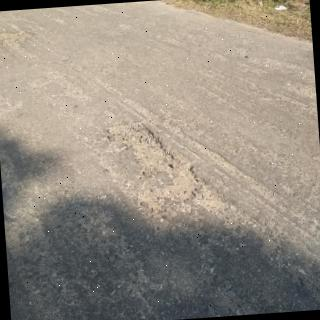pothole: (103, 124, 200, 210)
